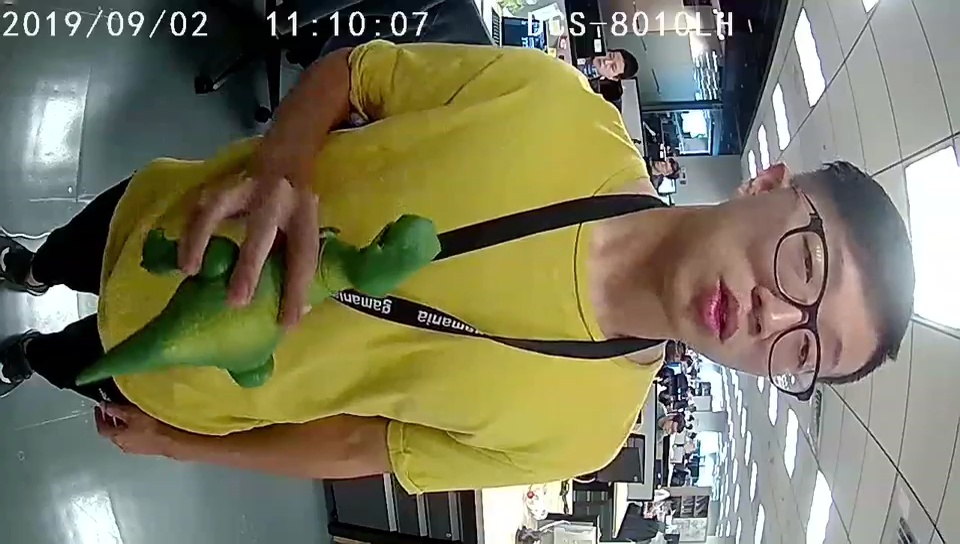rex: (144, 213, 440, 391)
